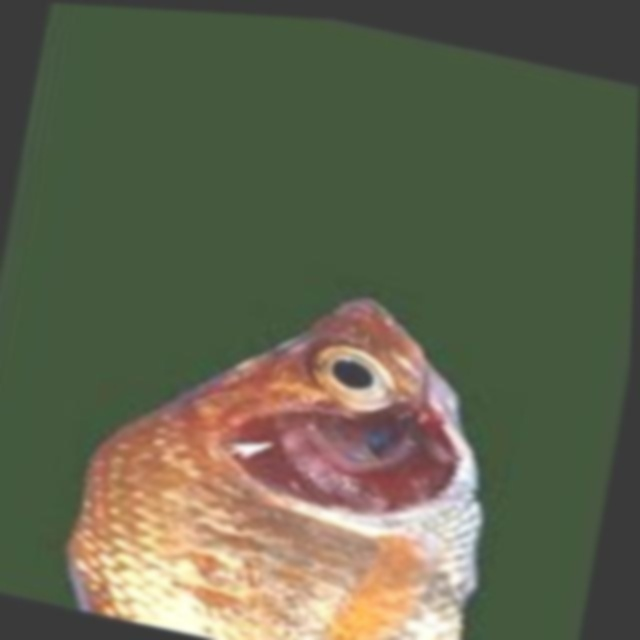Gill Disease: (66, 287, 481, 640)
